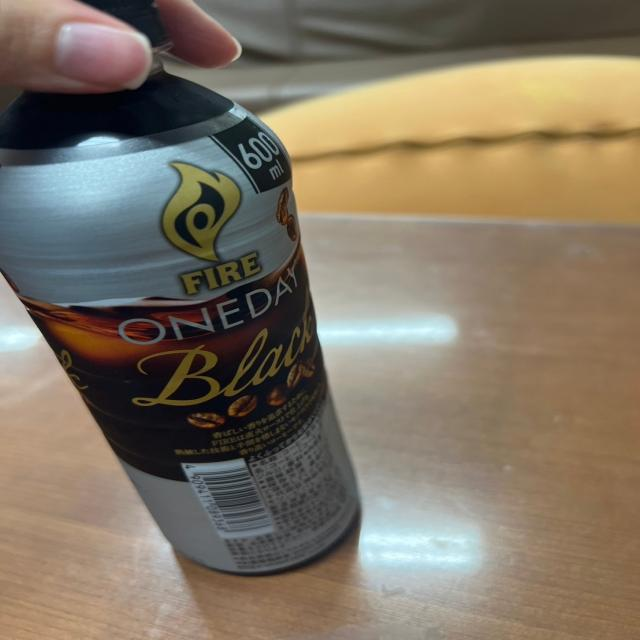coffee-black: (10, 80, 365, 578)
